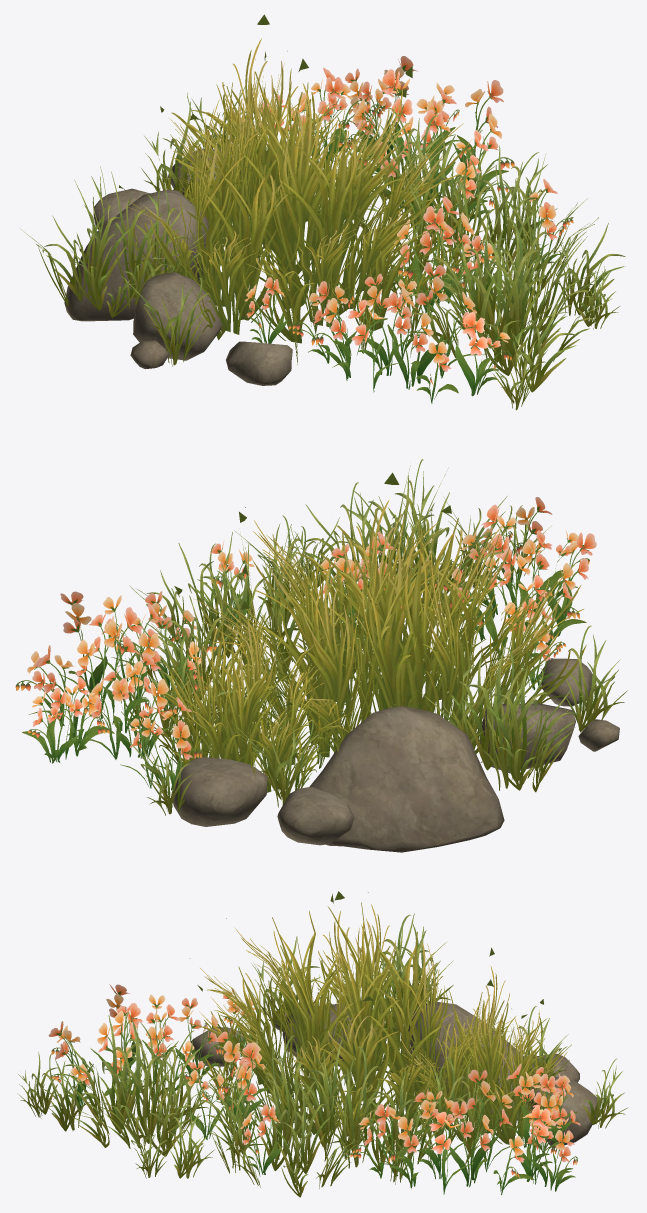
3 renders of one model, top to bottom at view 1: azimuth 30°, elevation 25°; view 2: azimuth 150°, elevation 25°; view 3: azimuth 270°, elevation 25°, orthographic. The views are drawn at different scales.
Bounding box in the file's own units: 11.8 × 6.06 × 14.63.
4 materials, 4 textured.
